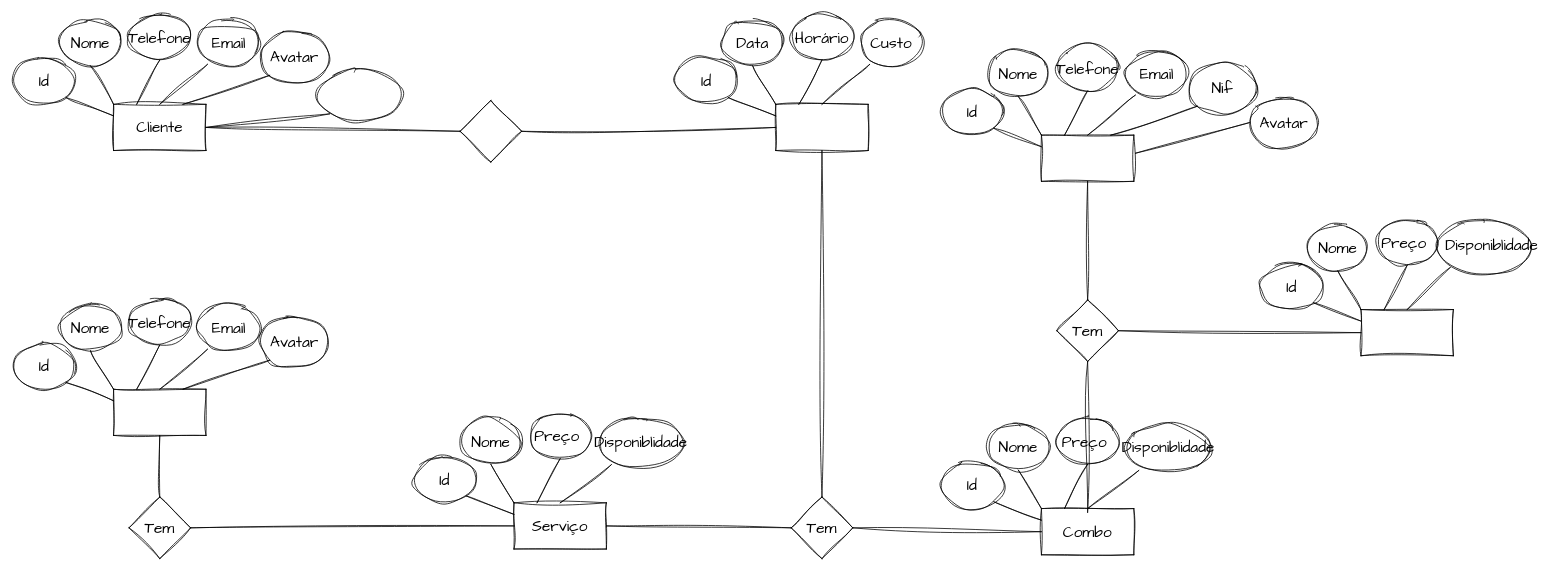
This 1552x572 diagram has some shape labels left out. Here are the shapes that lost their labels. From the top down, the centre of each, then its label:
At [359,95]: "Localização".
At [490,131]: "Faz".
At [821,127]: "Reserva".
At [1087,157]: "Agencia".
At [1406,332]: "Local".
At [159,411]: "Prestador".
